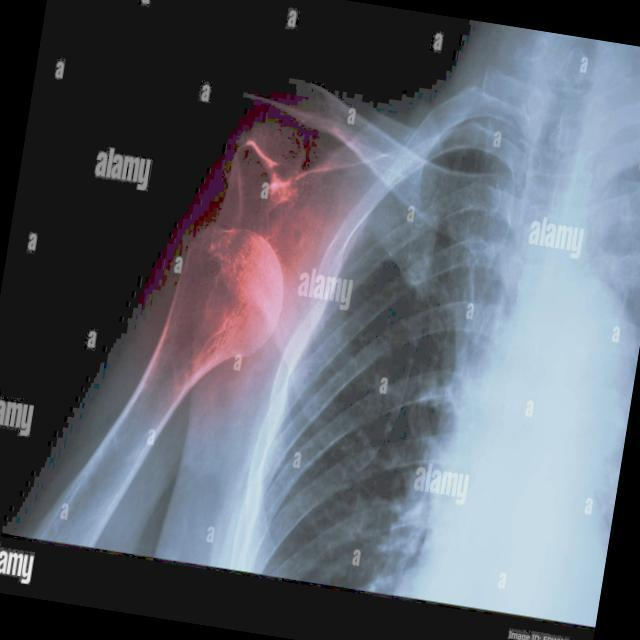Fracture Dislocation: (229, 70, 306, 285)
